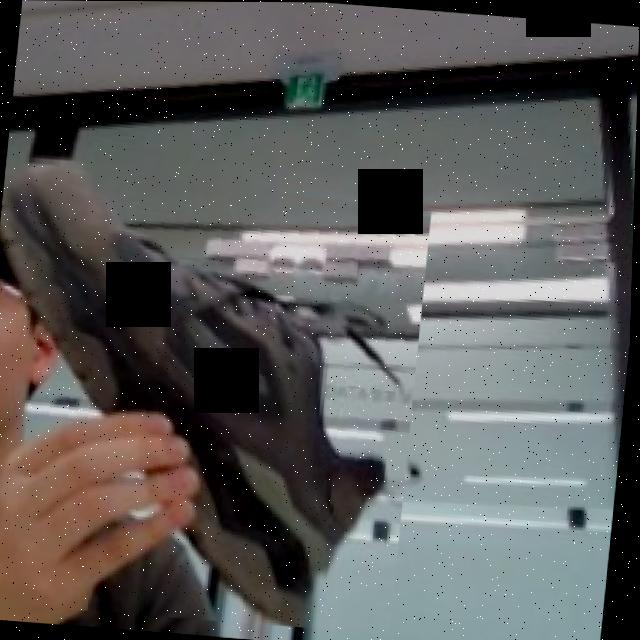shoe: (0, 156, 434, 634)
